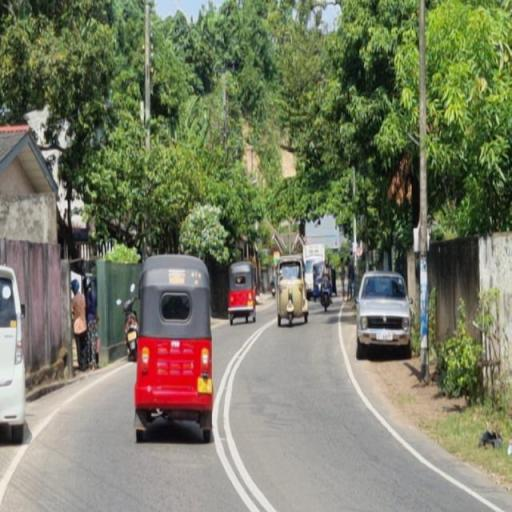double_white_line: (213, 311, 274, 512)
